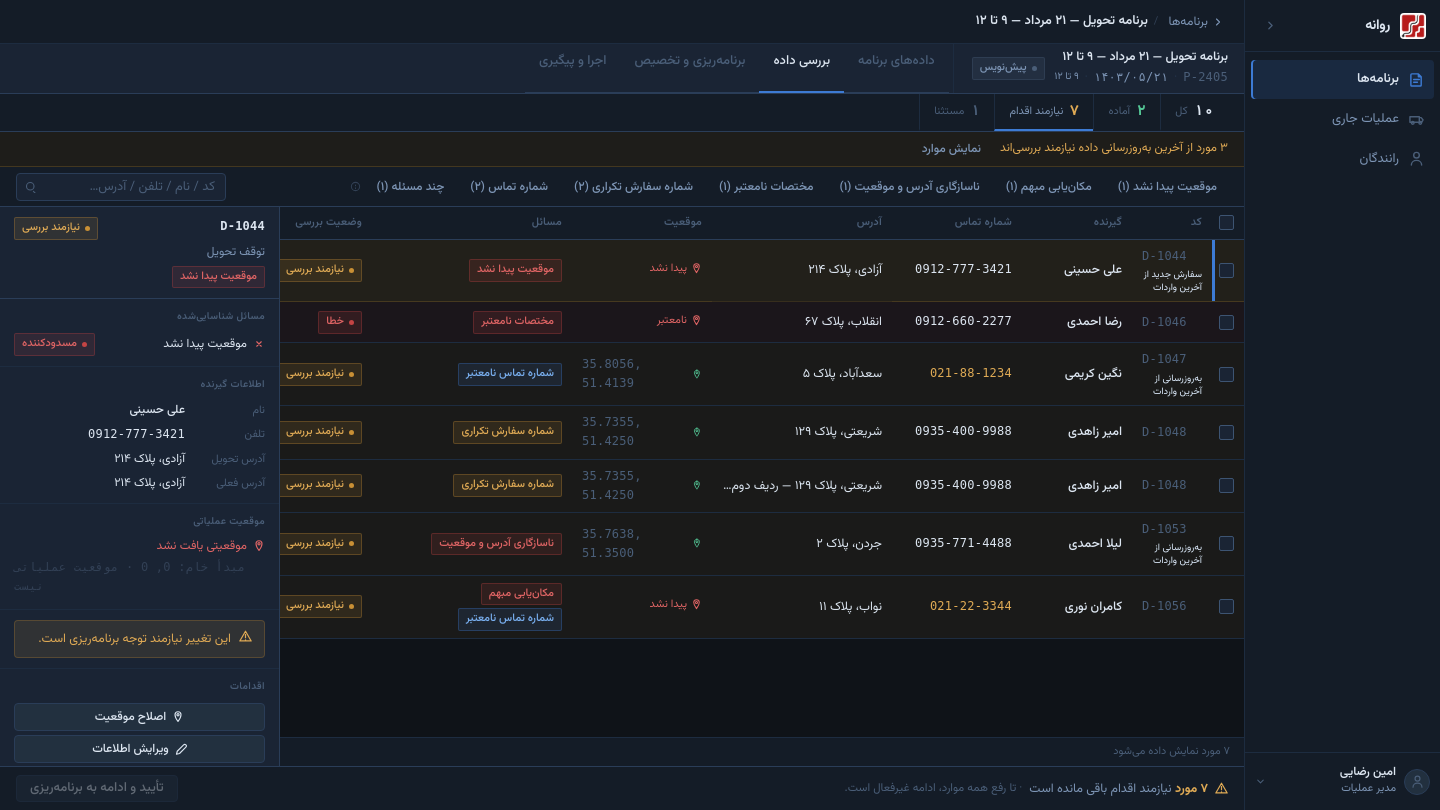
Test case: Review shell › renders derived issue counts and supports multiple issue filters
Check: the heading "اطلاعات گیرنده" is shown, box [201,376,265,392]
Check: the button "مکان‌یابی مبهم (۱)" is shown, box [995,174,1103,198]
Click the button "ناسازگاری آدرس و موقعیت (۱)" at x=910, y=186, box [828,174,991,198]
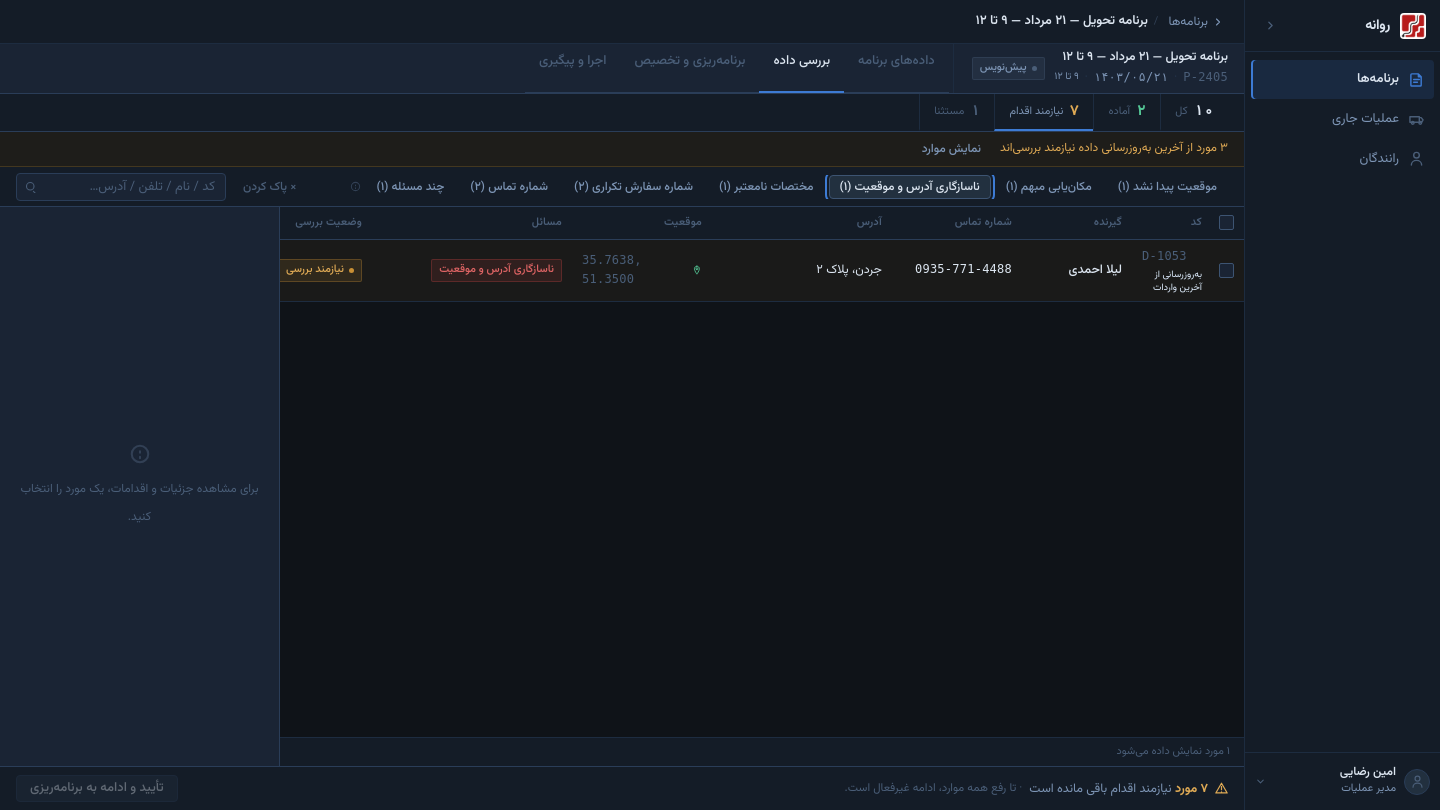
Check: the text "لیلا احمدی" is shown, box [1022,239,1132,302]
Check: the text "علی حسینی" is gone
Click the button "موقعیت پیدا نشد (۱)" at x=1167, y=186, box [1107,174,1228,198]
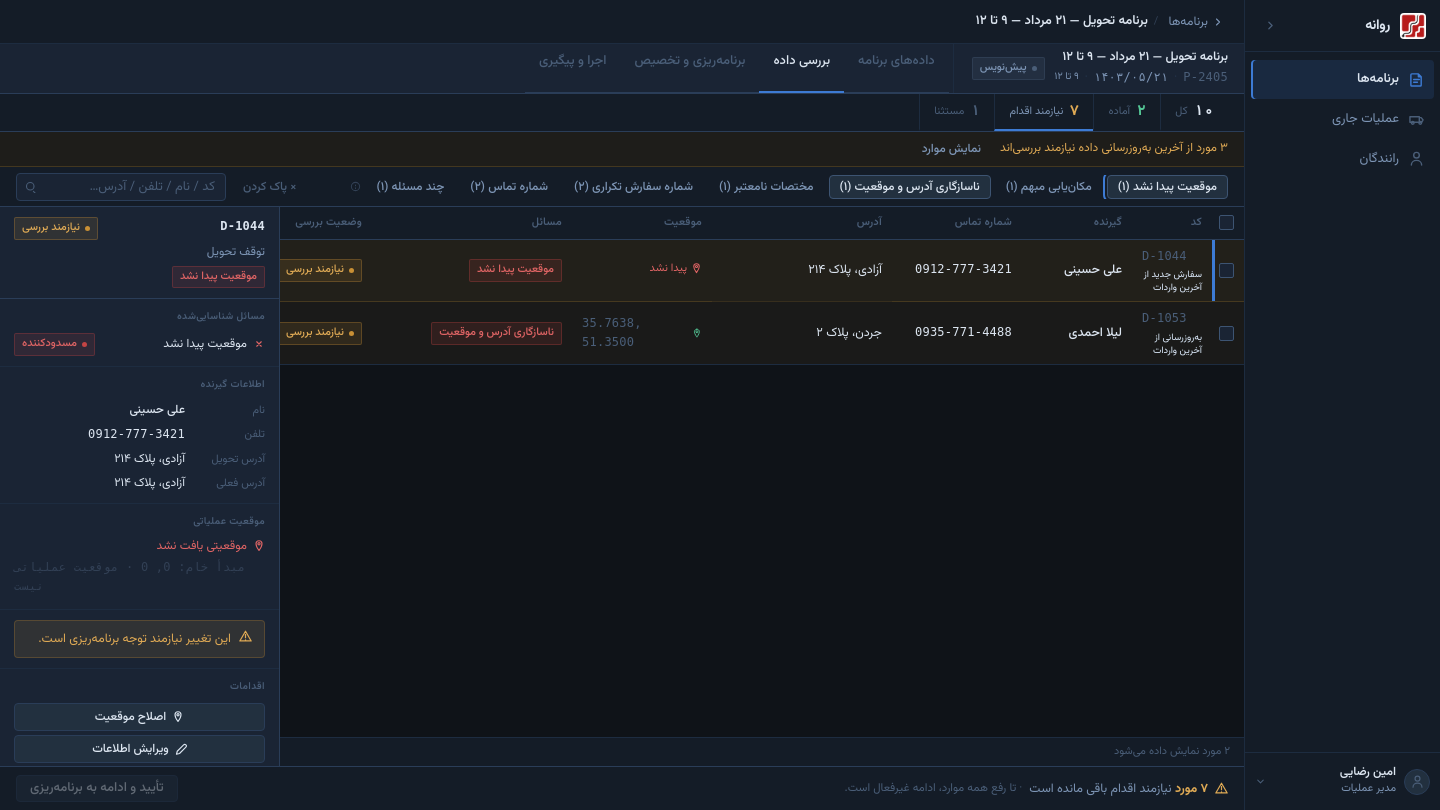
Check: the text "لیلا احمدی" is shown, box [1022,302,1132,365]
Check: the text "علی حسینی" is shown, box [1022,239,1132,302]
